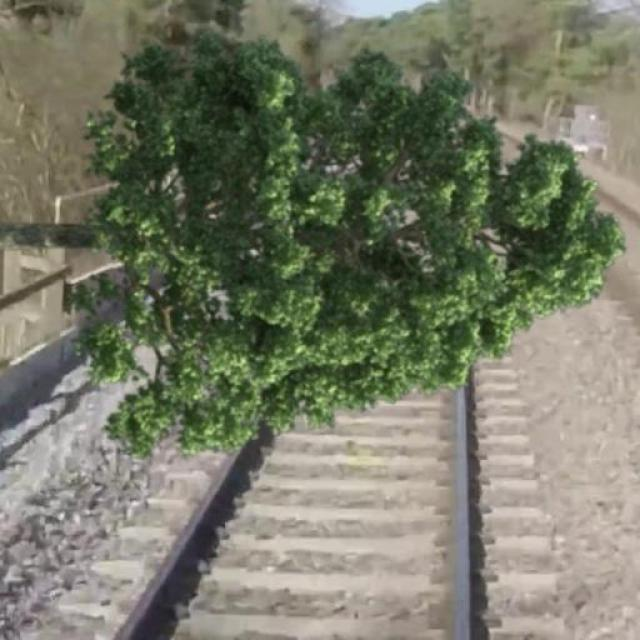Fallen Trees: (7, 43, 554, 421)
